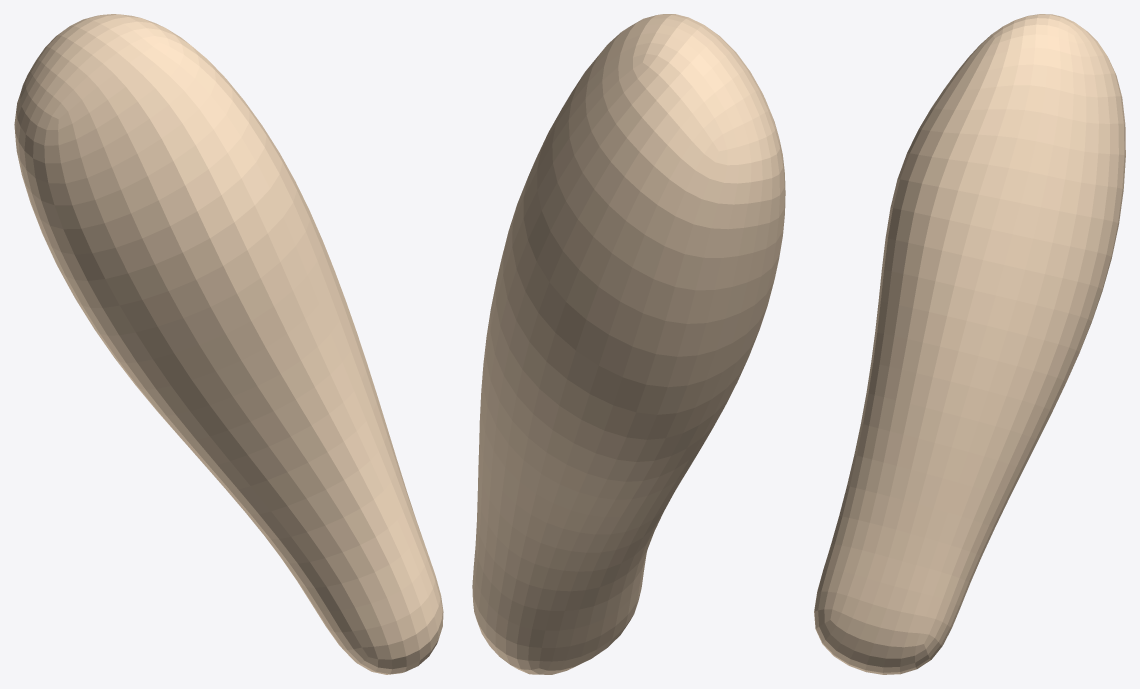
The model's file is LeftArm.fbx.
3 renders of one model, left to right at view 1: azimuth 30°, elevation 25°; view 2: azimuth 150°, elevation 25°; view 3: azimuth 270°, elevation 25°, orthographic. The views are drawn at different scales.
Parts seen in each view (by area): view 1: LeftArm; view 2: LeftArm; view 3: LeftArm.
Part boxes in pixels (x1=…): LeftArm: x1=14, y1=14, x2=443, y2=674; LeftArm: x1=472, y1=14, x2=785, y2=674; LeftArm: x1=814, y1=14, x2=1125, y2=674.
Bounding box in the file's own units: 0.1382 × 0.2638 × 0.1305.
